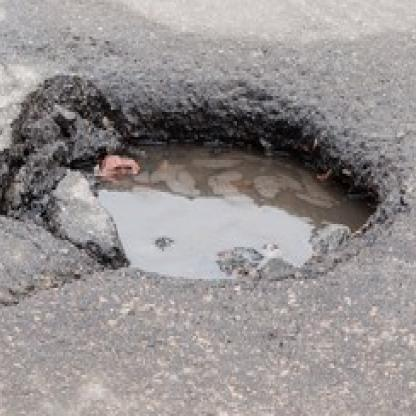pothole: (0, 71, 385, 286)
